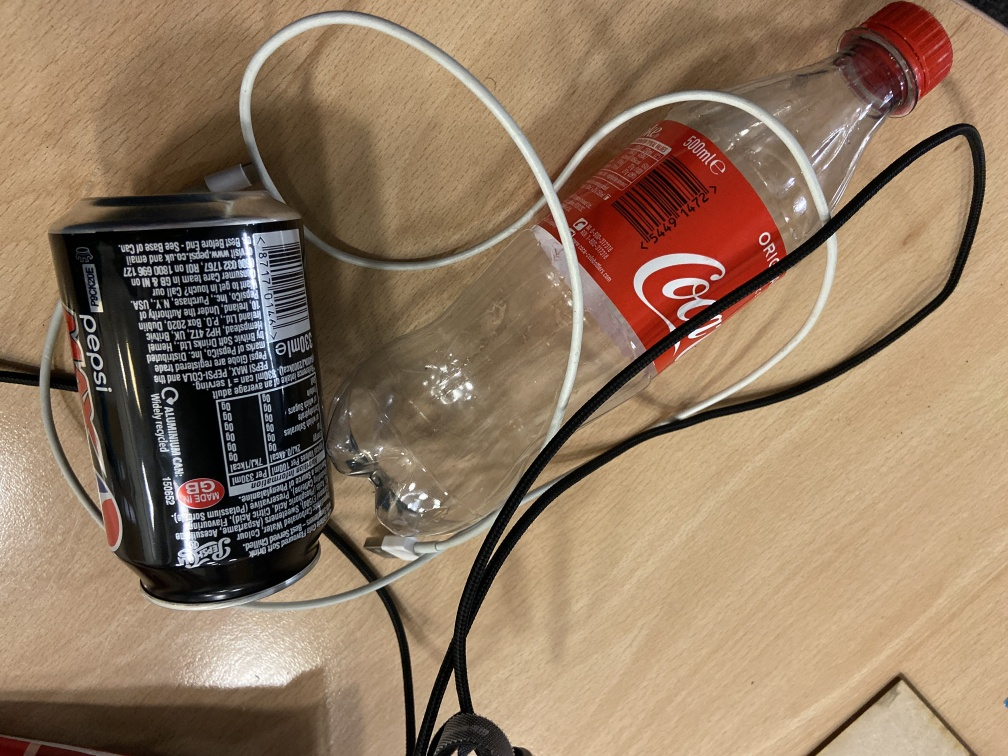bottle_red: (323, 1, 959, 545)
can_black: (46, 188, 336, 615)
